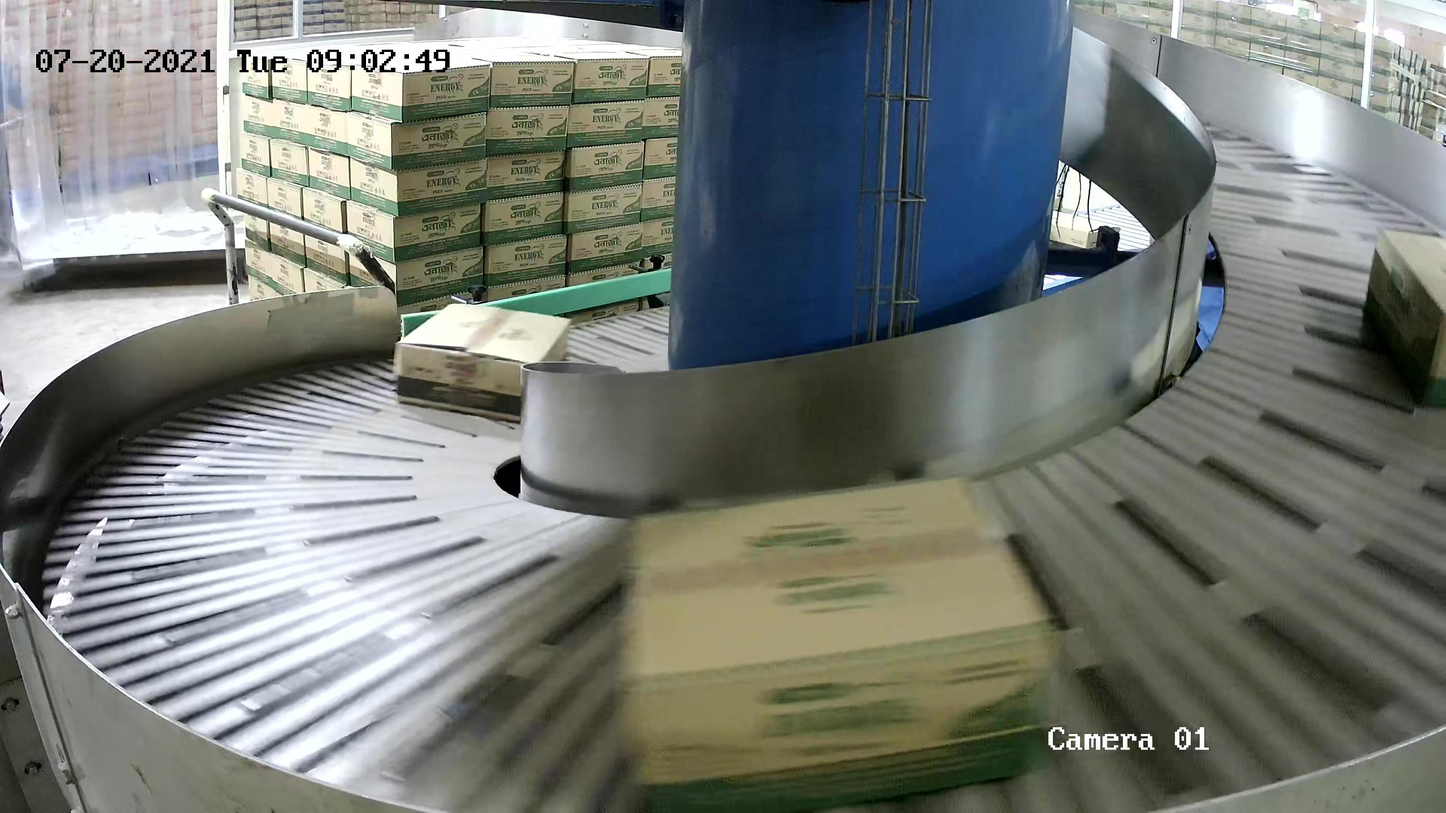Box: (616, 471, 1059, 813), (393, 299, 577, 430), (1359, 224, 1446, 415)
